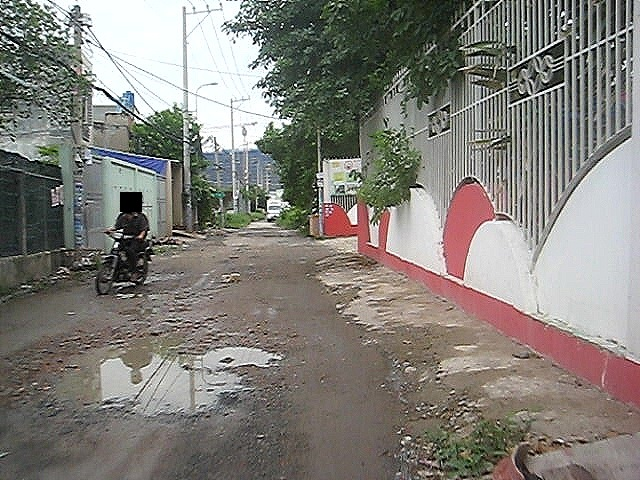hole: (1, 321, 291, 434), (115, 305, 157, 320), (109, 281, 141, 299), (238, 228, 291, 238), (149, 268, 184, 282)
